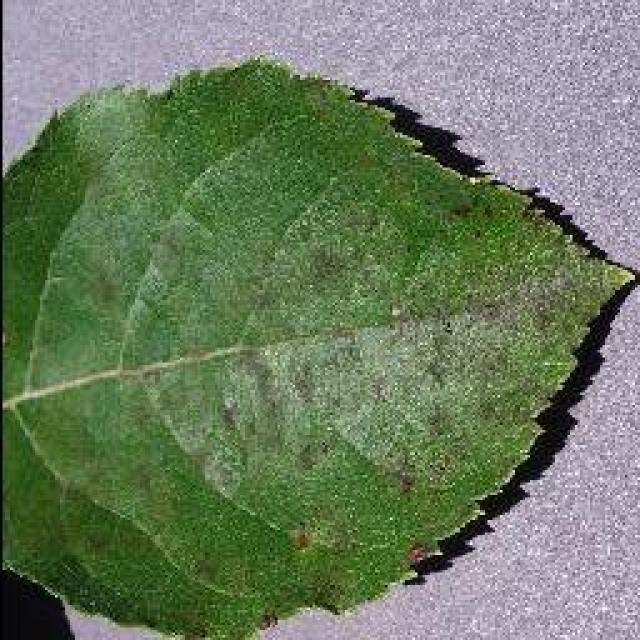Apple___Apple_scab: (0, 47, 638, 638)
